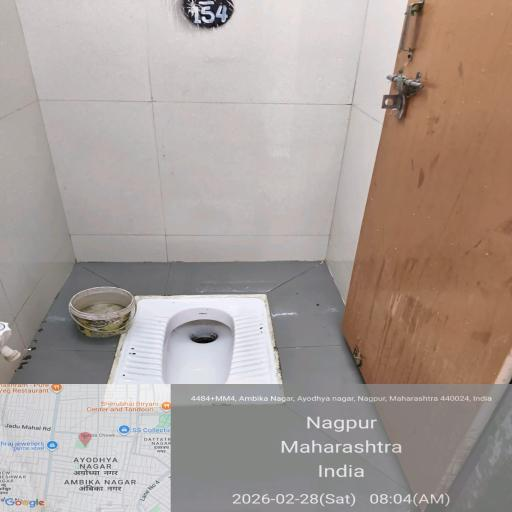clean_floor: (0, 13, 439, 271), (0, 384, 496, 512)
clean_indian: (86, 296, 326, 441)
